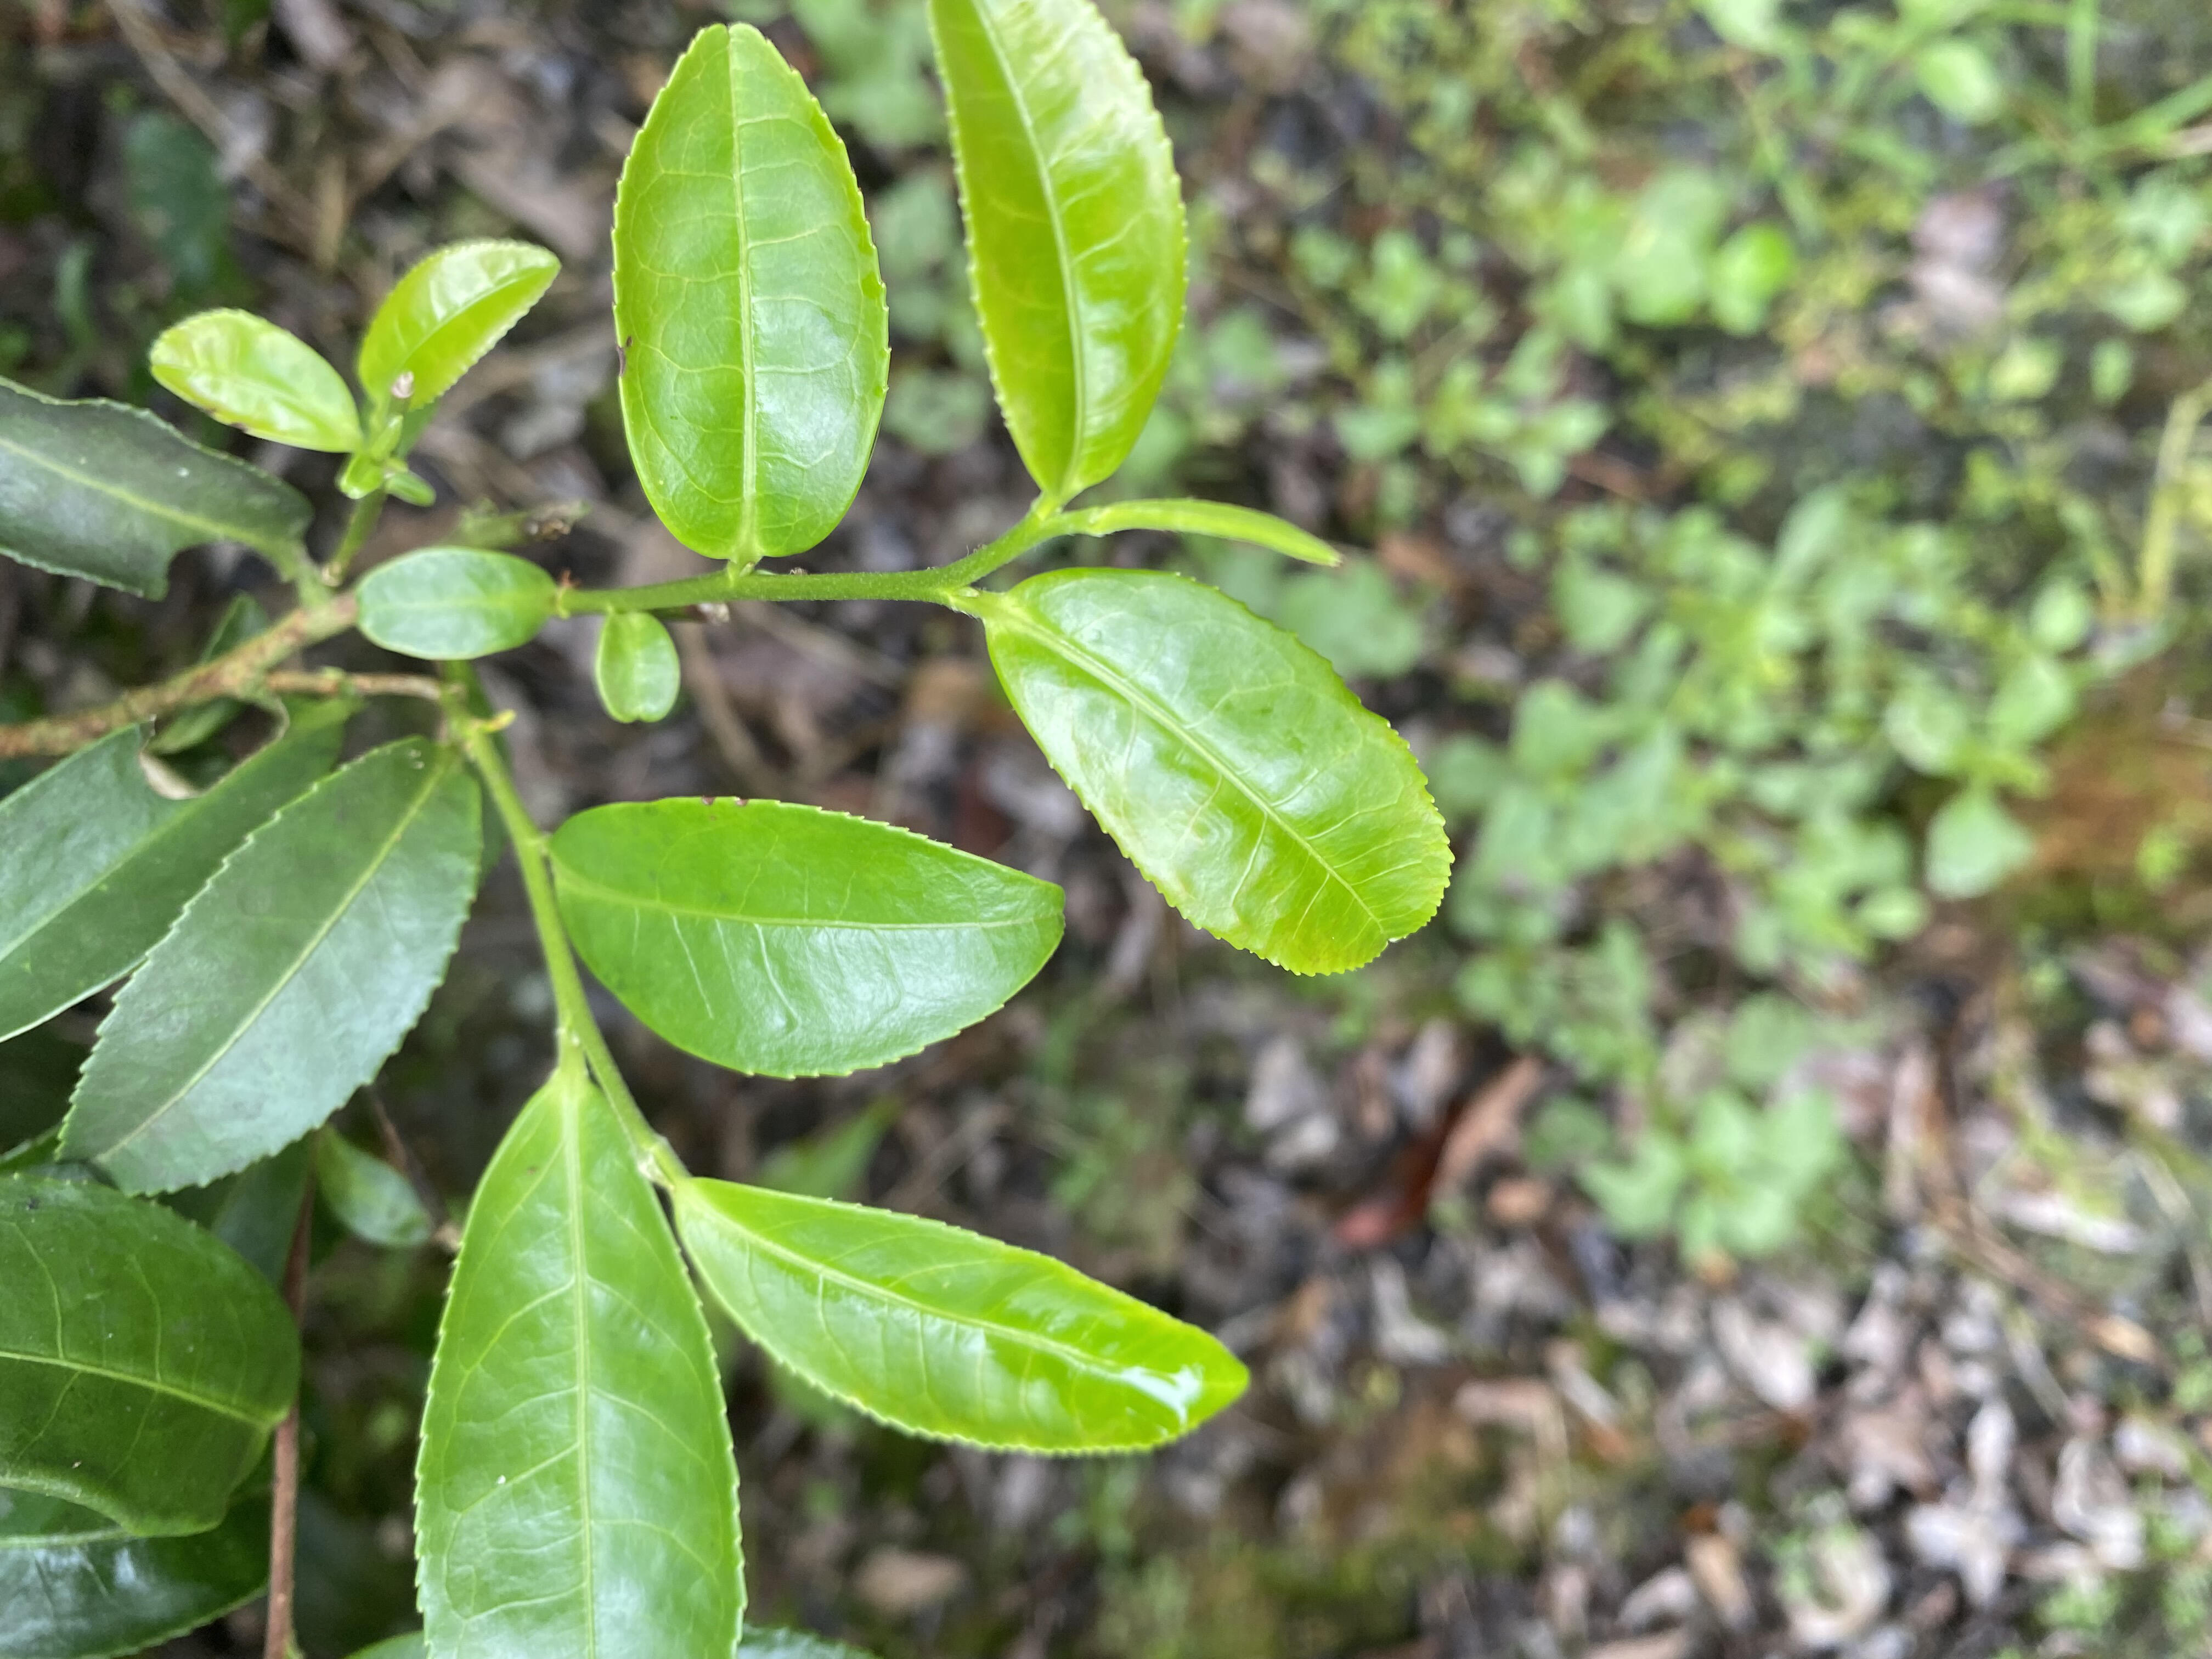chihuo_low: (5, 690, 354, 1044), (2, 380, 315, 606)
healthy: (411, 1066, 752, 1657), (57, 741, 486, 1202), (1000, 568, 1456, 983), (664, 1176, 1254, 1459), (921, 5, 1191, 509), (352, 242, 561, 415), (357, 551, 563, 657), (594, 606, 676, 727)
tanju_low: (603, 14, 895, 568)
